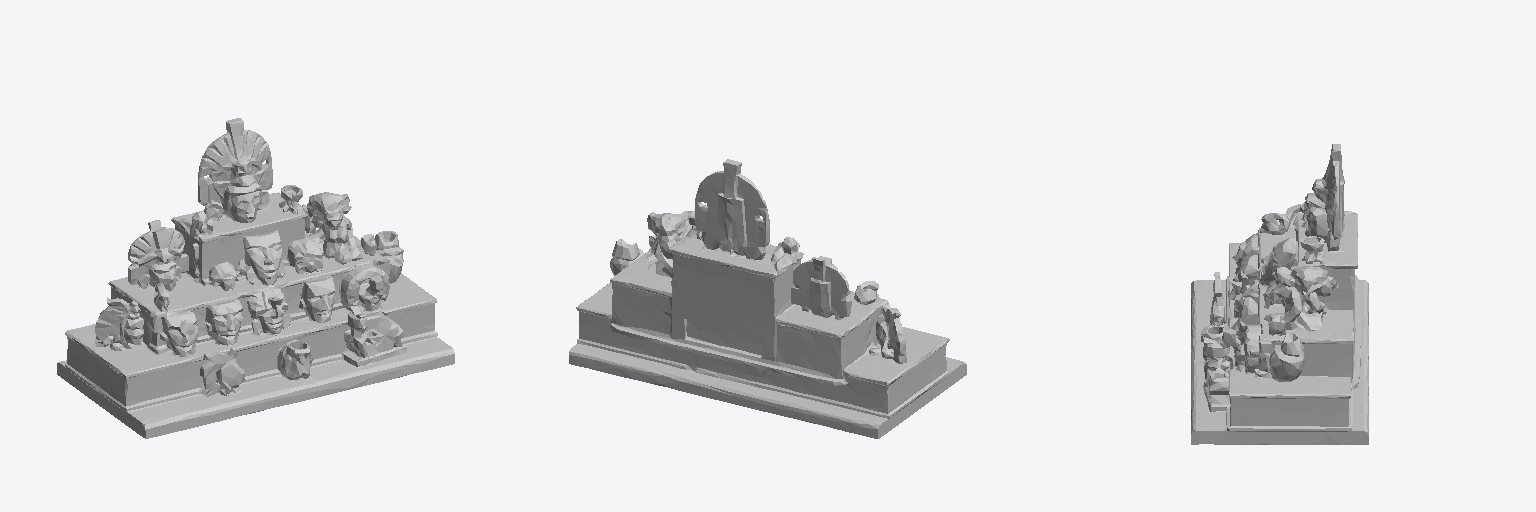
The model's file is Masks_on_Display_1124011824_texture.obj.
3 renders of one model, left to right at view 1: azimuth 30°, elevation 25°; view 2: azimuth 150°, elevation 25°; view 3: azimuth 270°, elevation 25°, orthographic.
Visible parts, largest first — view 1: Masks_on_Display_[number redacted]_texture; view 2: Masks_on_Display_[number redacted]_texture; view 3: Masks_on_Display_[number redacted]_texture.
Part boxes in pixels (x1,y1,x2,y2): Masks_on_Display_[number redacted]_texture: (57,118,454,438); Masks_on_Display_[number redacted]_texture: (569,159,966,438); Masks_on_Display_[number redacted]_texture: (1191,144,1368,444).
Bounding box in the file's own units: 1.45 × 1 × 0.7131.